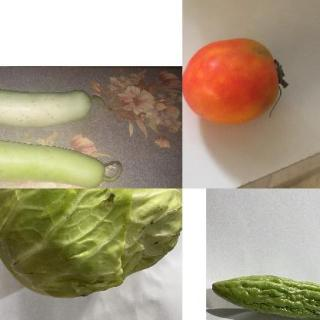Tomat: (183, 35, 294, 136)
